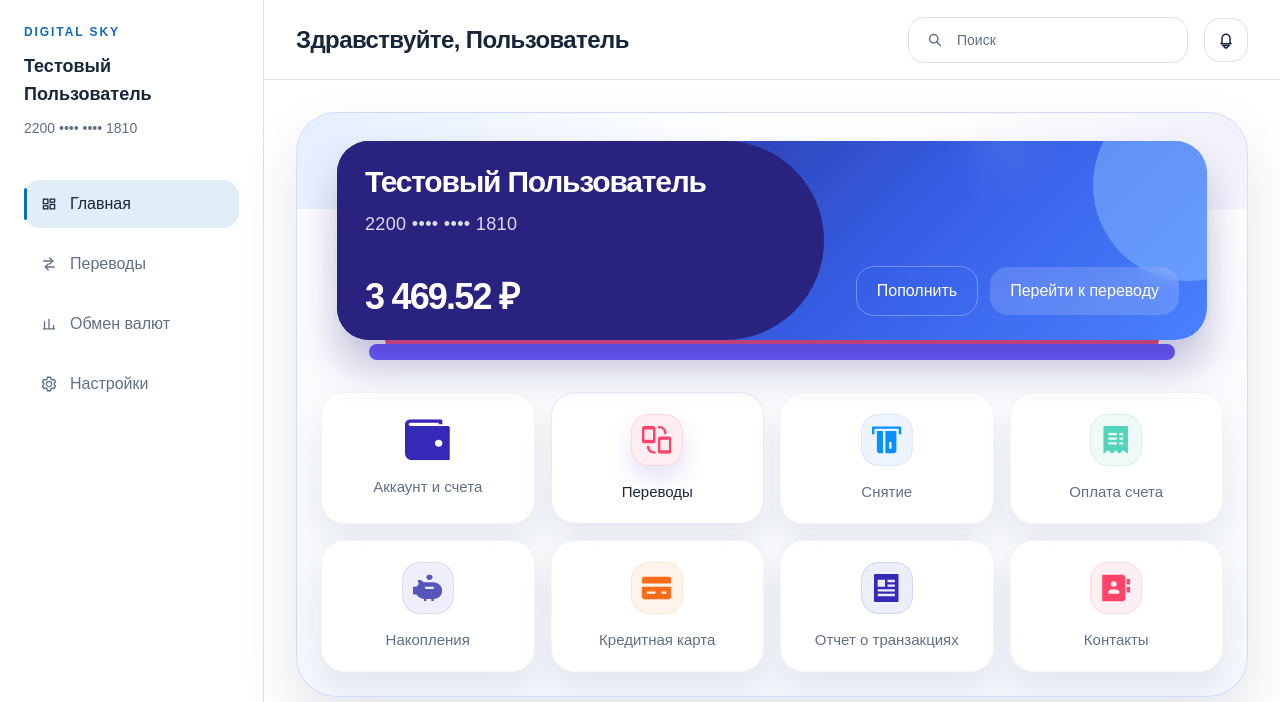
Test: DashboardPage › tops up the balance when using the Пополнить button
The width and height of the screenshot is (1280, 702).
Click the button "Пополнить" at (917, 291), box [856, 266, 978, 316]
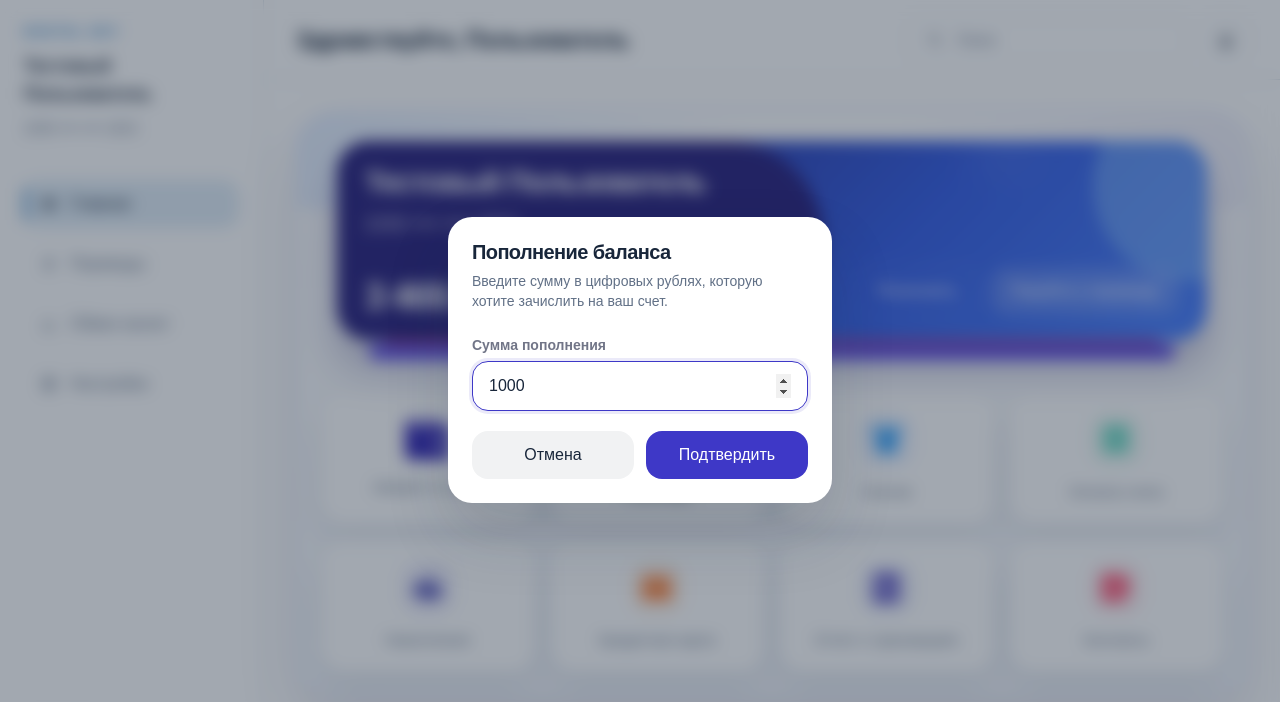
Check: the heading "Пополнение баланса" is shown, box [472, 241, 670, 263]
# Clear the default "1000" and type "1500"
Type "1500" into the number field labelled "Сумма пополнения" at (640, 386), box [472, 361, 808, 411]
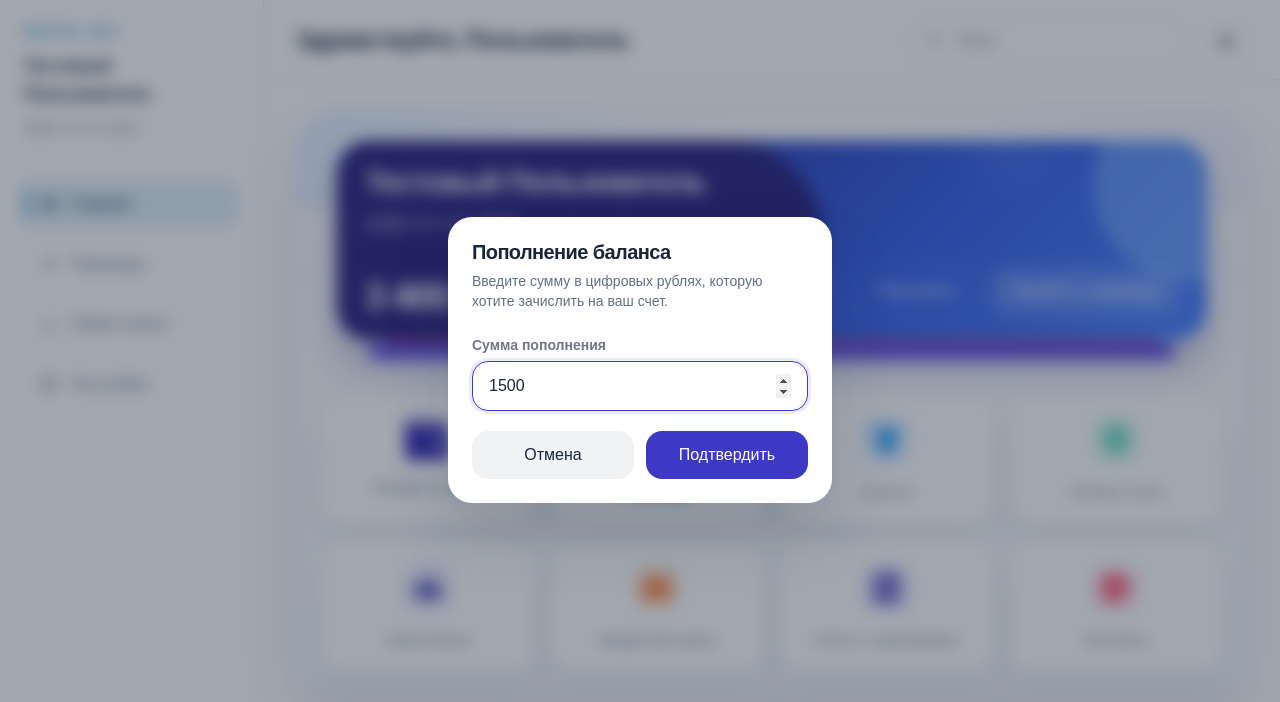
Click the button "Подтвердить" at (727, 455), box [646, 431, 808, 479]
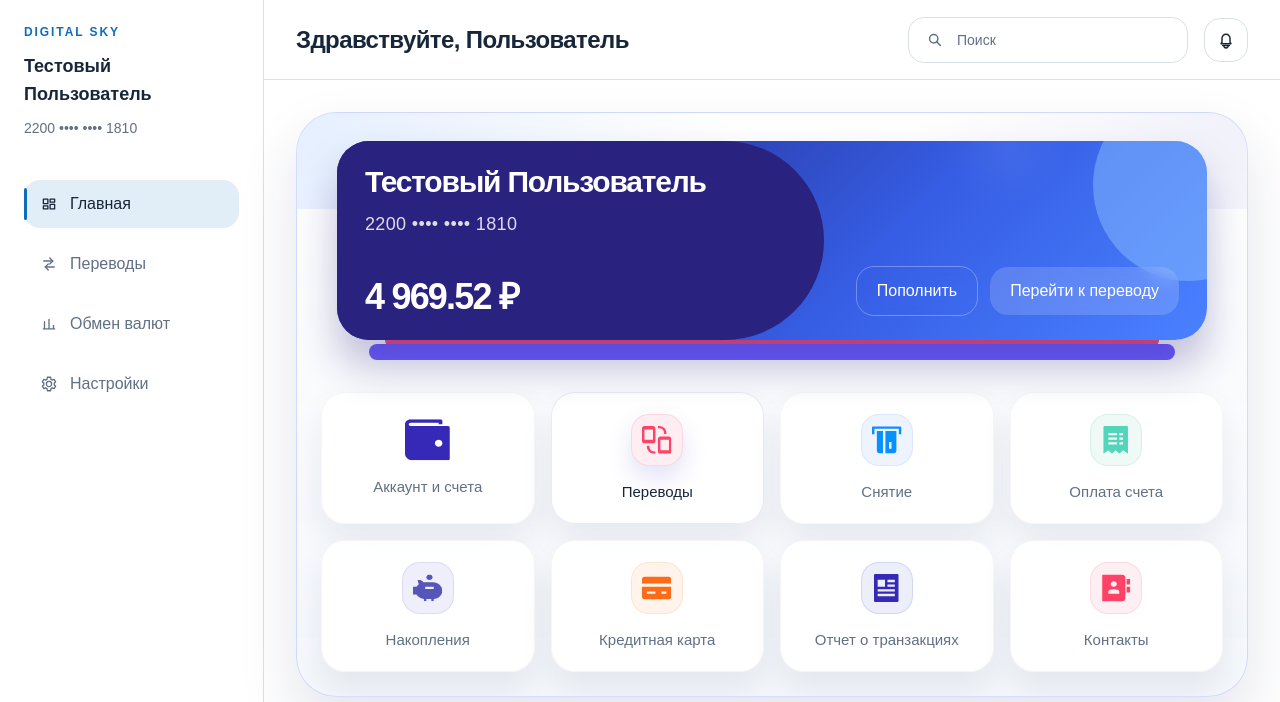
Check: the heading "Пополнение баланса" is gone
Check: the text "4 969.52 ₽" is shown, box [365, 278, 518, 316]
